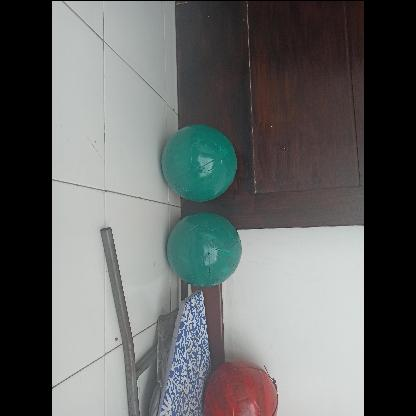green_ball: (160, 122, 240, 202), (168, 210, 242, 286)
